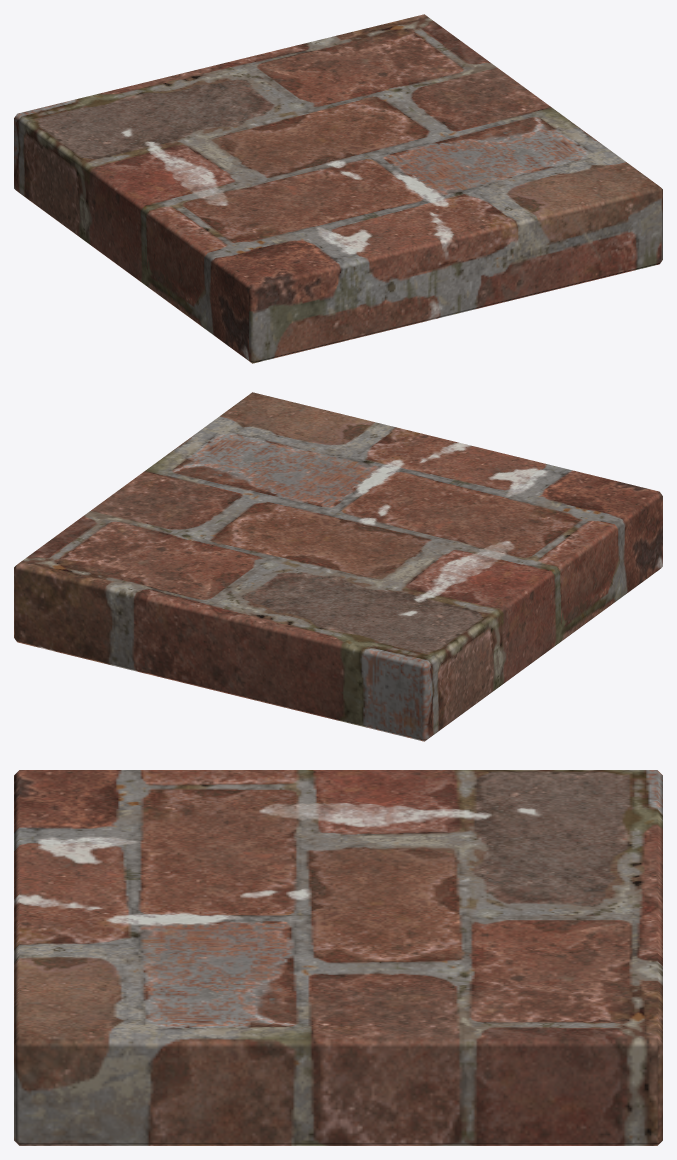
Rendered from SM_Abacus_01.fbx.
3 renders of one model, top to bottom at view 1: azimuth 30°, elevation 25°; view 2: azimuth 150°, elevation 25°; view 3: azimuth 270°, elevation 25°, orthographic. The views are drawn at different scales.
Visible parts, largest first — view 1: SM_Abacus_01_LOD0; view 2: SM_Abacus_01_LOD0; view 3: SM_Abacus_01_LOD0.
Boxes of the visible parts, box(x1,y1,x2,y2) form: SM_Abacus_01_LOD0: box(14, 14, 662, 363); SM_Abacus_01_LOD0: box(14, 392, 662, 741); SM_Abacus_01_LOD0: box(14, 770, 662, 1145).
Size of what is drawn, in the model's own units: 164 by 29.64 by 164.
